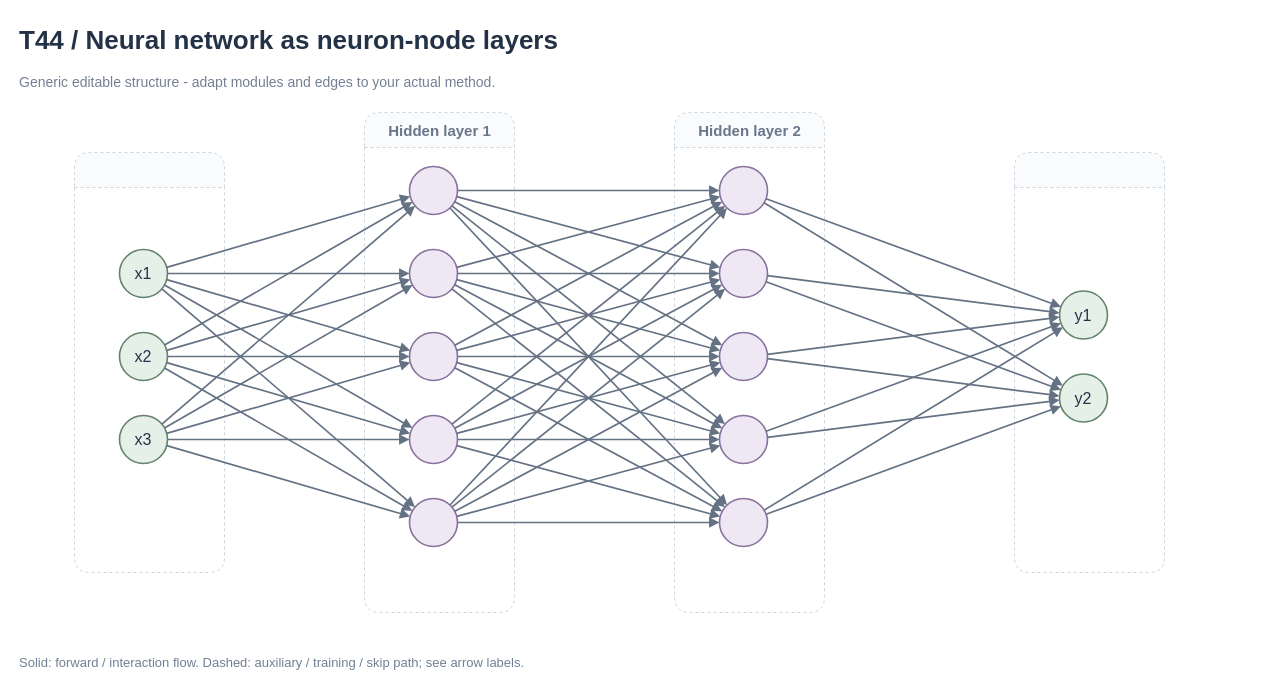
Image size: 1264x695. Some labels were removed from this diagram. The box of each missing label's shape, as (x1, y1, x2, y2) in pixels:
Input: (74, 152, 224, 572)
Output: (1014, 152, 1164, 572)
